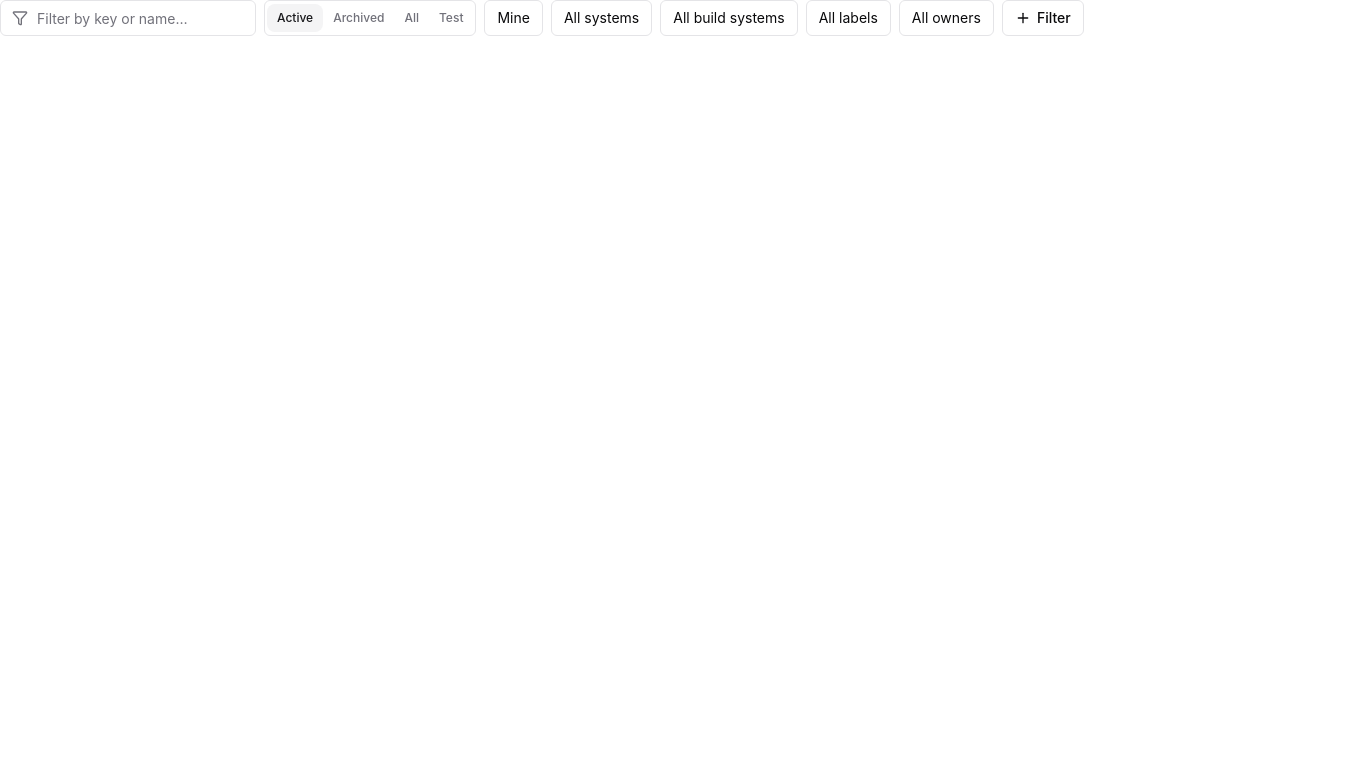
Test: ComponentFilters "+ Filter" panel (extended dimensions) › does not offer an extended dimension configured searchable: None
Click the button with aria-label "Add filter" at (1043, 18), box [1002, 0, 1084, 36]
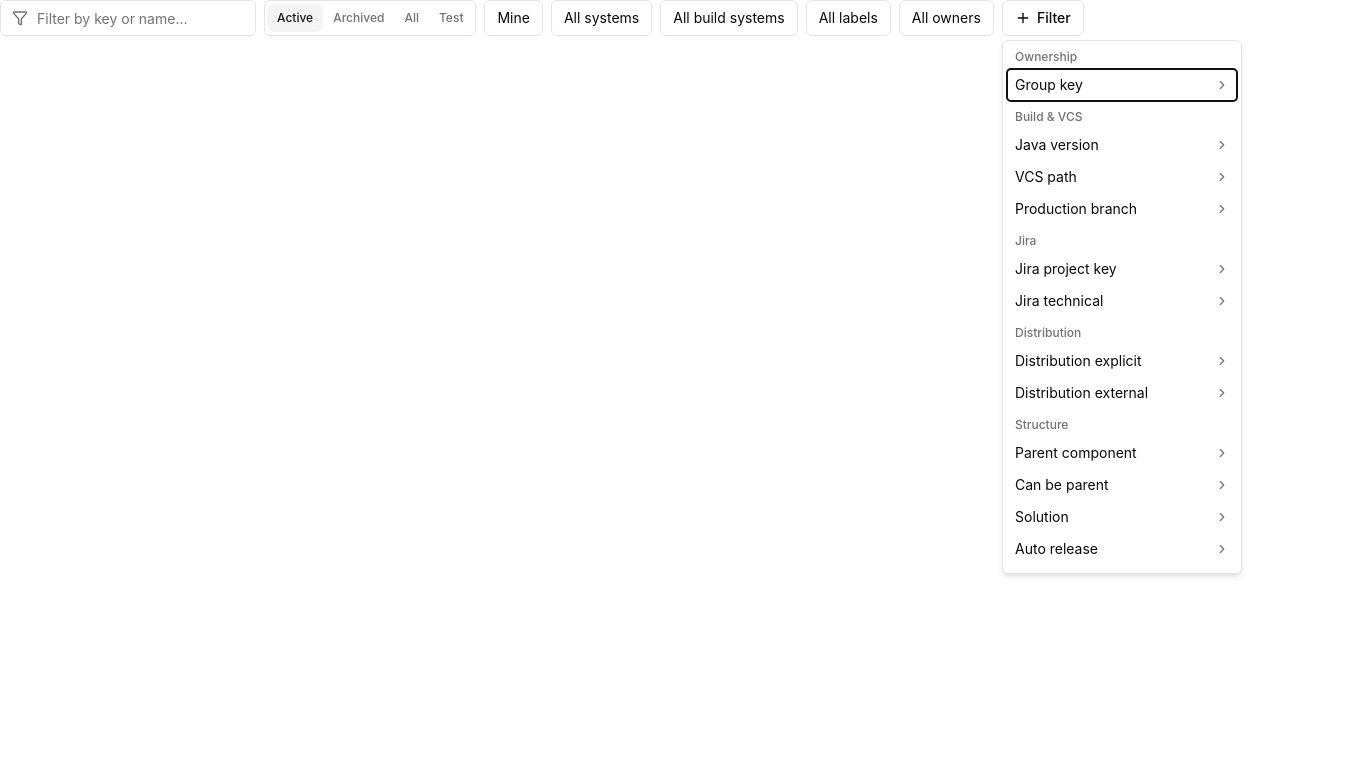
Expected: the button "Jira project key" is shown, [1007, 253, 1237, 285]
